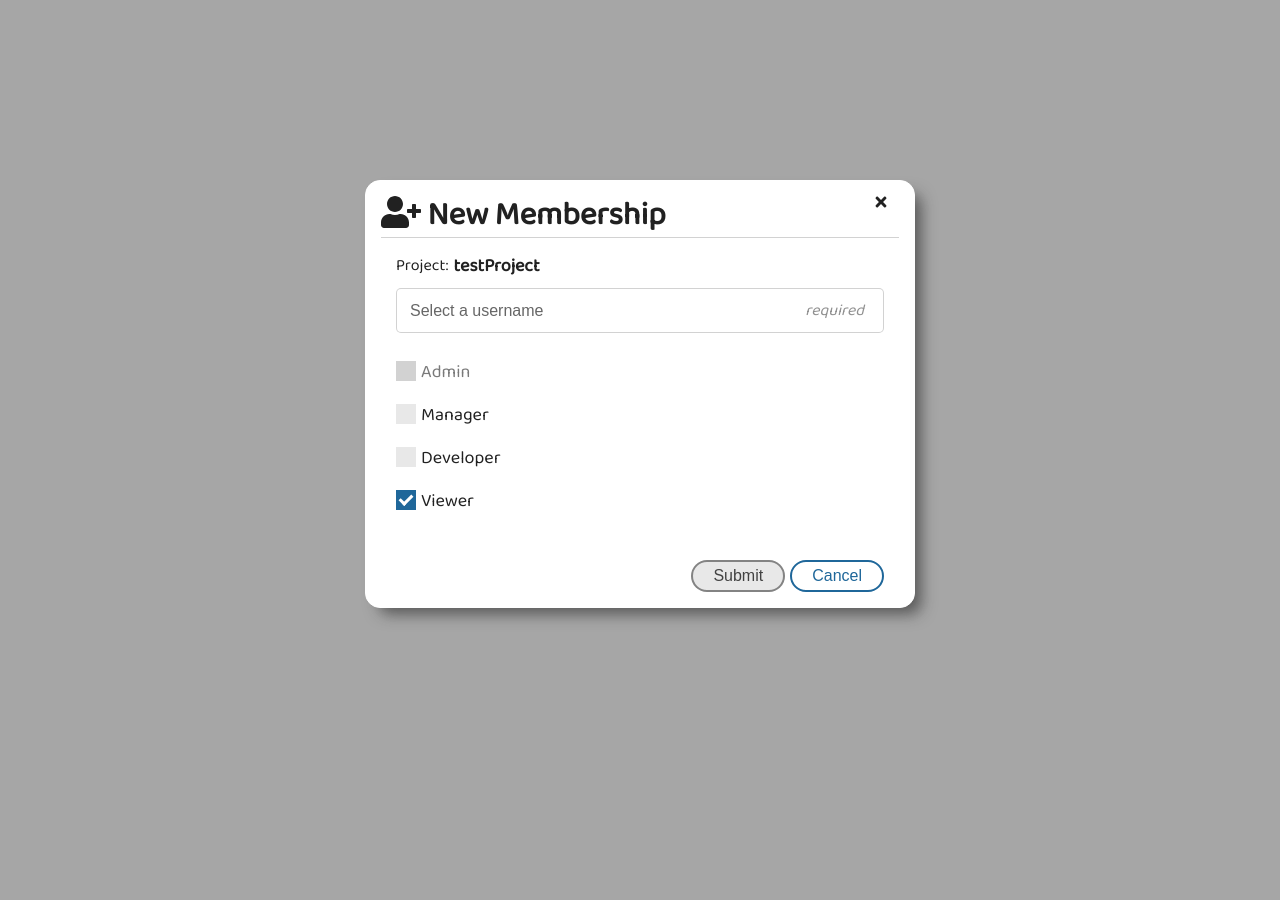
Scenario: <MembershipModal /> › should enable the submit button if there is username input
Expected: the button with test id "membershipModal.actions.primaryButton" is disabled, [691,560,785,592]
In the field with test id "membershipUsernameInput.input": (640, 310) [396,288,884,333], type "some value"
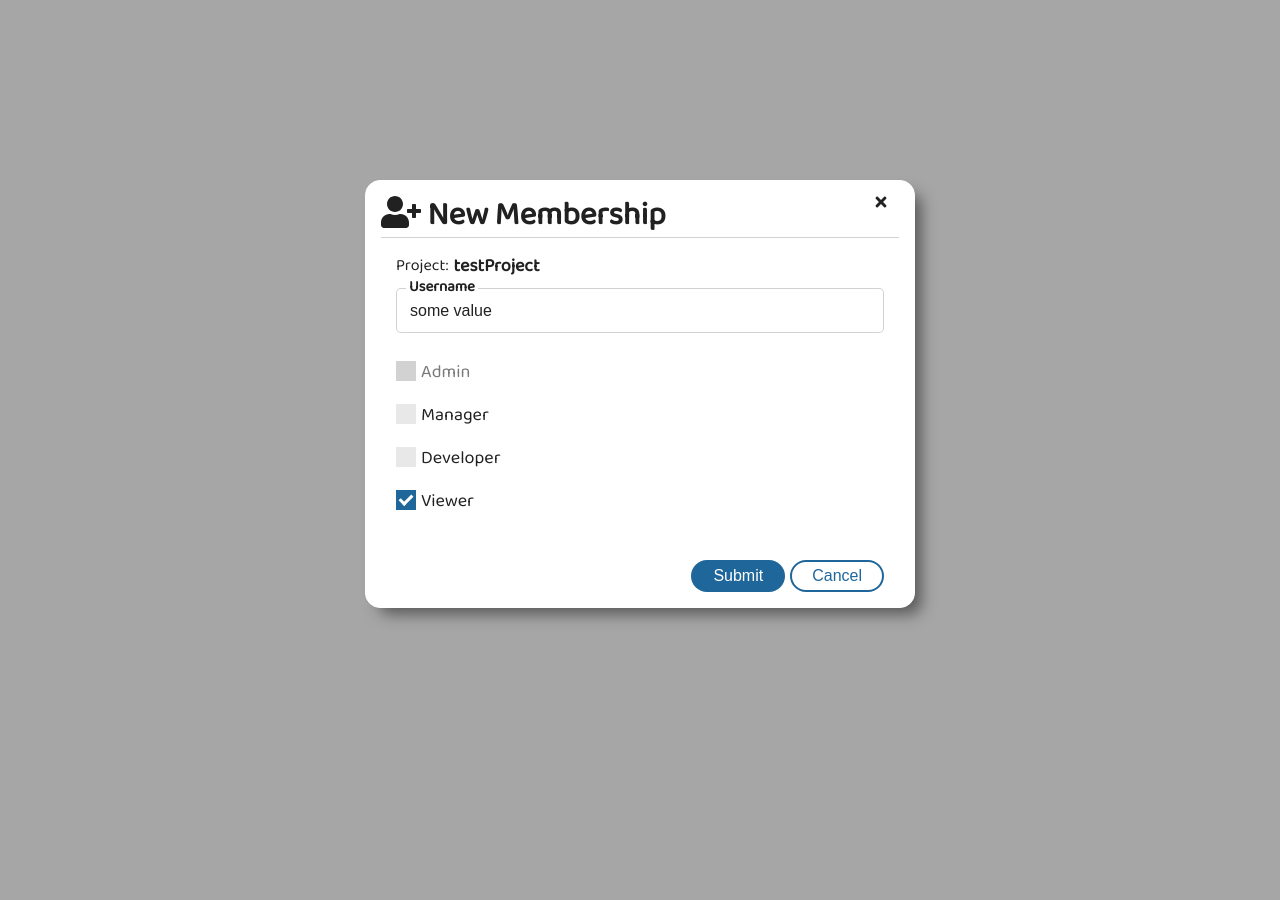
Expected: the button with test id "membershipModal.actions.primaryButton" is enabled, [691,560,785,592]
